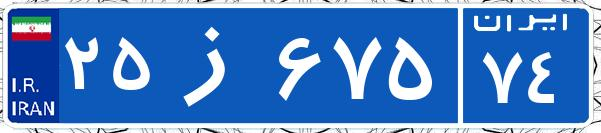2: (57, 26, 110, 107)
4: (525, 38, 570, 115)
5: (385, 28, 445, 110), (110, 28, 158, 105)
6: (273, 28, 330, 110)
7: (330, 28, 385, 110), (475, 38, 525, 113)
ز: (158, 15, 273, 115)
